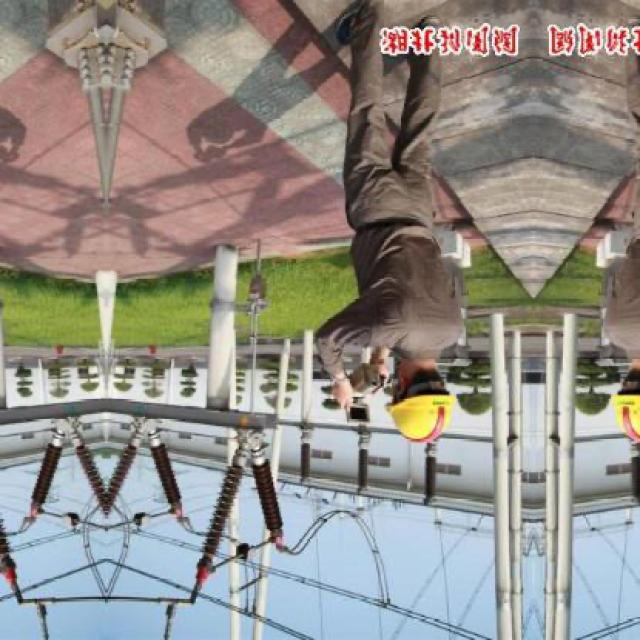con casco: (357, 321, 480, 457)
